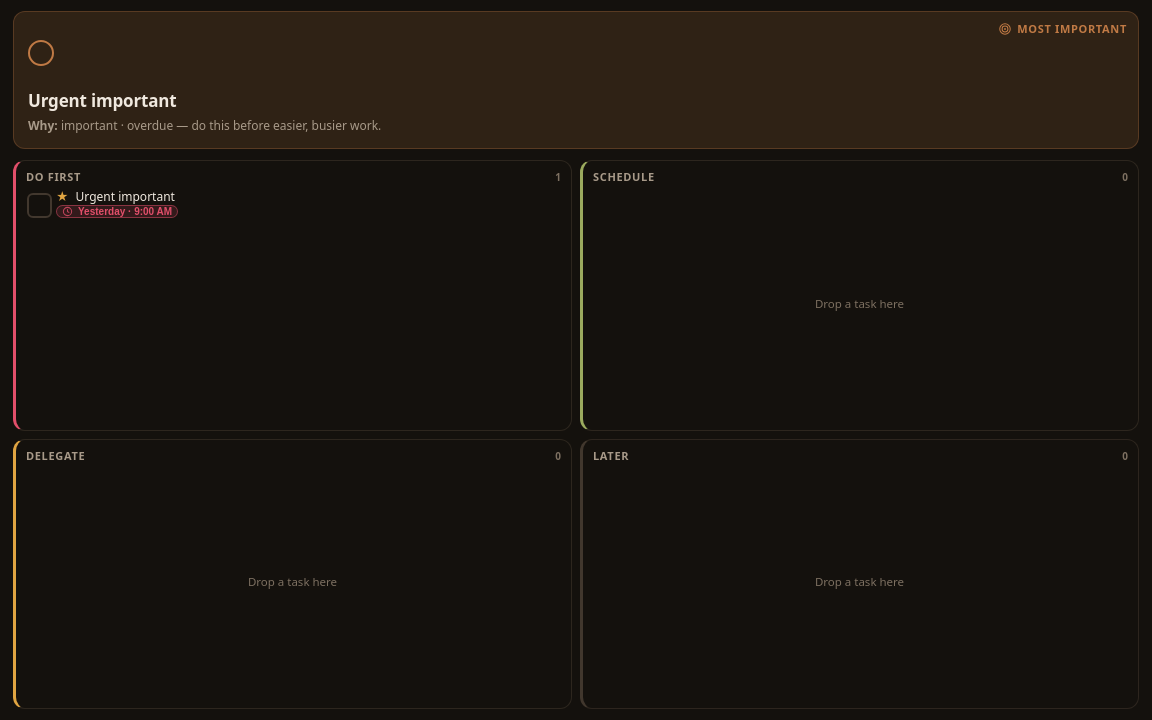
Test case: TriageWidget (Prioritize) › completing a quadrant row delegates to the capability and leaves the grid
Click the checkbox named "complete: urgent important" at (40,205), box 27,193 -> 52,218
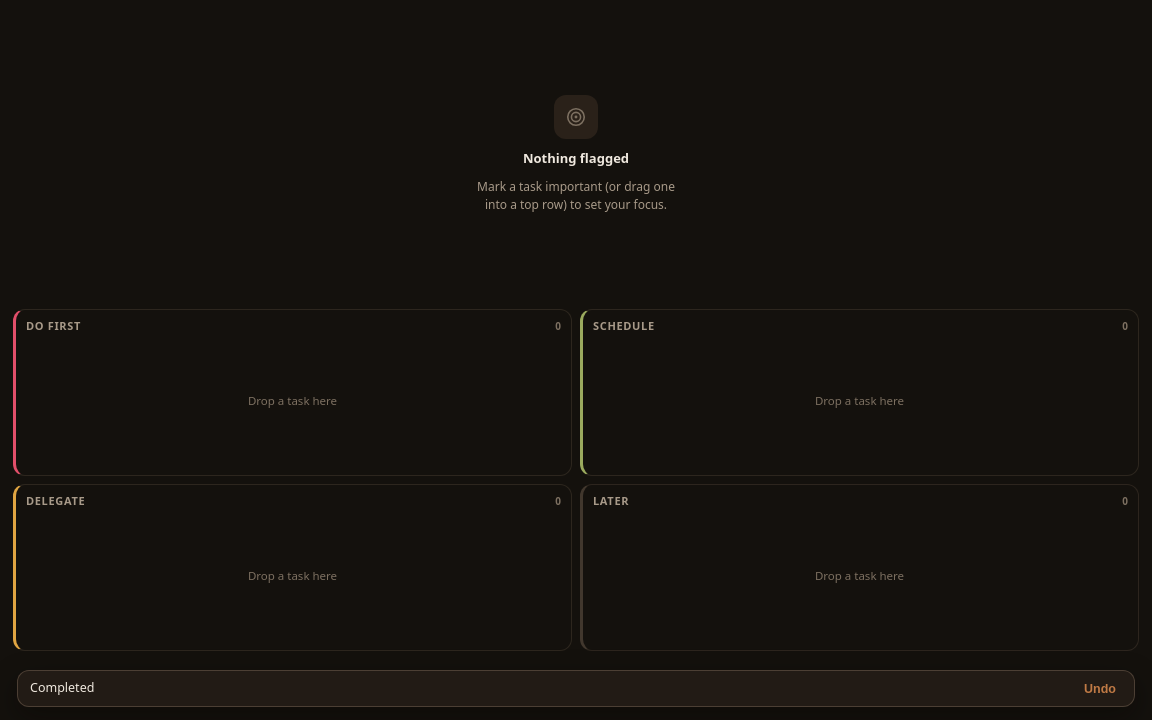
Expected: the text "Urgent important" is gone
